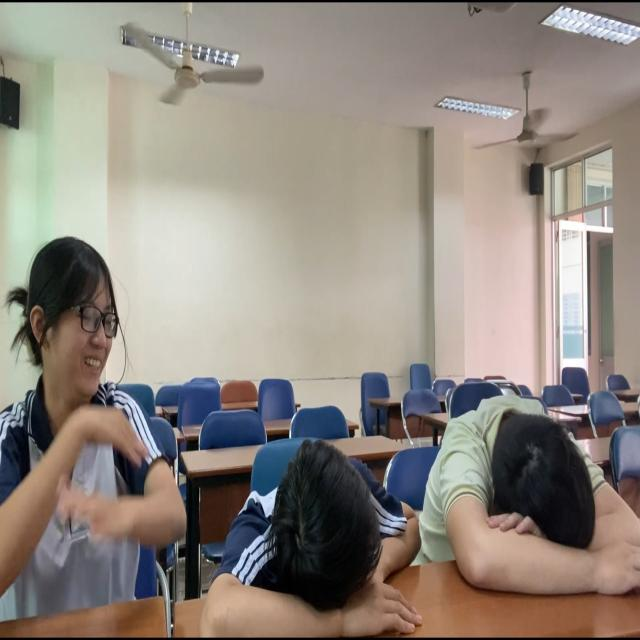sleep: (395, 399, 640, 640), (197, 439, 430, 640)
